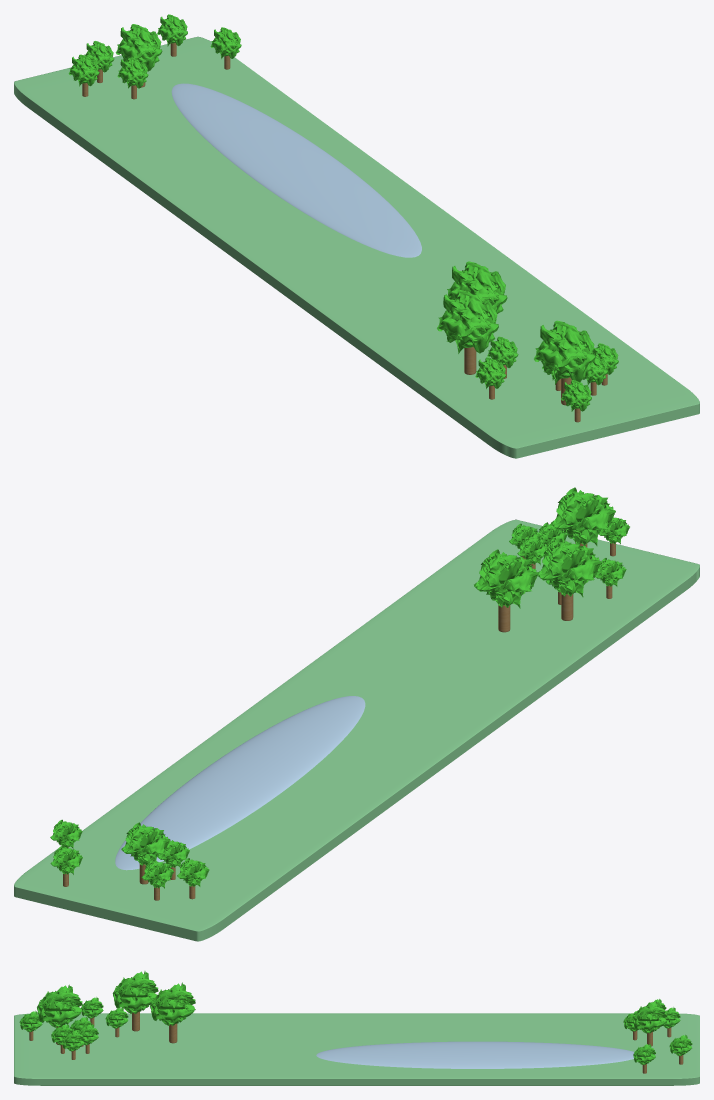
The model's file is park2.glb.
The picture shows the model from 3 angles, top to bottom: view 1: azimuth 30°, elevation 25°; view 2: azimuth 150°, elevation 25°; view 3: azimuth 270°, elevation 25°; orthographic projection. The views are drawn at different scales.
Visible parts, largest first — view 1: land, water, Torus 2 (×3), Torus 3 (×2), Torus (×2); view 2: land, water, Torus 3 (×3); view 3: land, water, Torus 3 (×4), Torus 2 (×4), Torus 1 (×3), Torus (×3).
Boxes of the visible parts, box(x1,y1,x2,y2) form: land: box(14, 36, 699, 458); water: box(171, 83, 421, 257); Torus 2 (×3): box(453, 261, 595, 384); Torus 3 (×2): box(437, 310, 591, 382); Torus (×2): box(443, 294, 588, 366); land: box(14, 519, 699, 941); water: box(115, 696, 365, 870); Torus 3 (×3): box(474, 504, 615, 598); land: box(14, 1013, 699, 1085); water: box(316, 1041, 634, 1068); Torus 3 (×4): box(37, 977, 666, 1029); Torus 2 (×4): box(40, 977, 666, 1030); Torus 1 (×3): box(37, 983, 188, 1014); Torus (×3): box(37, 971, 185, 1027).
Size of the model in its own units: 1.9 by 0.8172 by 8.4.
82 materials, 16 textured.
